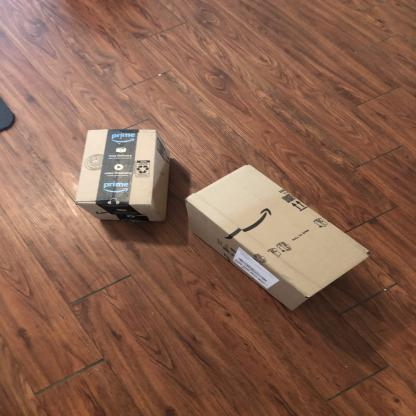package: (182, 160, 378, 317), (72, 127, 176, 225)
